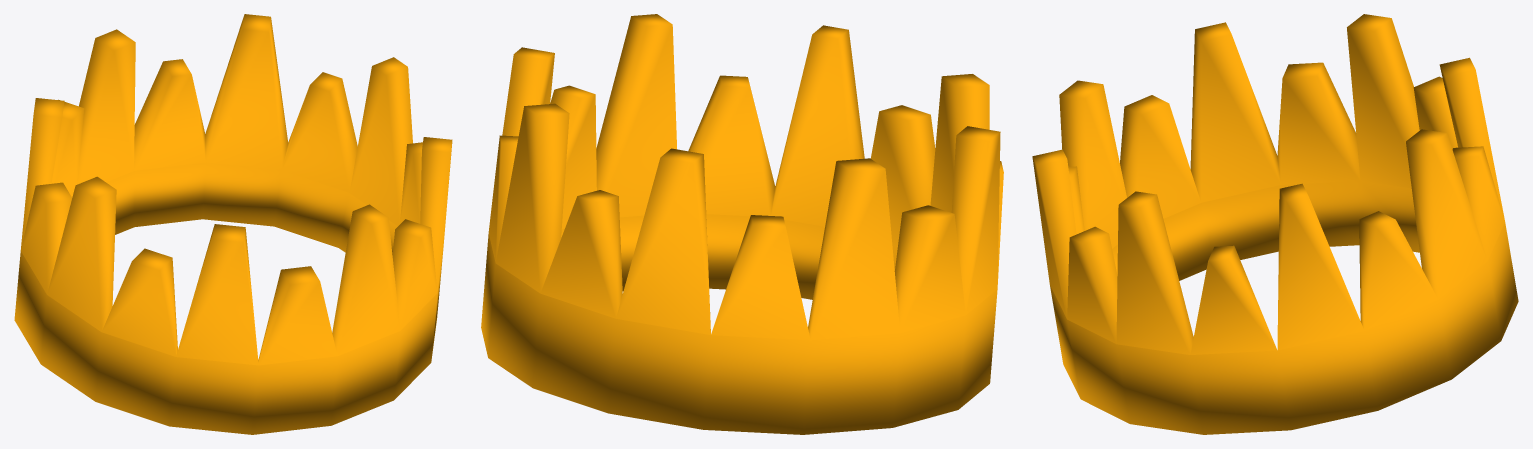
File: Crown.gltf
3 views of the same model, side by side, from view 1: azimuth 30°, elevation 25°; view 2: azimuth 150°, elevation 25°; view 3: azimuth 270°, elevation 25° (orthographic). The views are drawn at different scales.
Parts seen in each view (by area): view 1: Plane; view 2: Plane; view 3: Plane.
Boxes of the visible parts, left/top/right/bottom form: Plane: left=14, top=14, right=452, bottom=434; Plane: left=481, top=14, right=1003, bottom=434; Plane: left=1032, top=14, right=1518, bottom=434.
Bounding box in the file's own units: 0.2683 × 0.1817 × 0.2833.
1 material, 1 textured.
